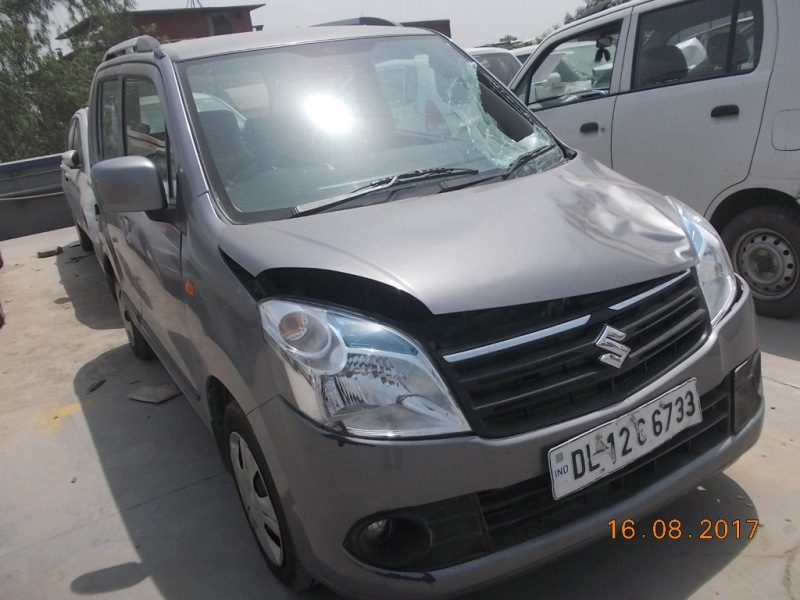Dislocation: (173, 133, 433, 513)
